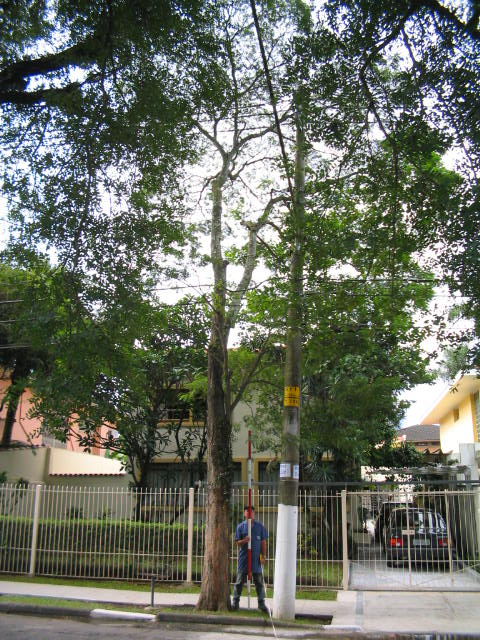stem: (191, 334, 242, 614)
stick: (243, 430, 255, 609)
tree: (170, 84, 307, 615)
